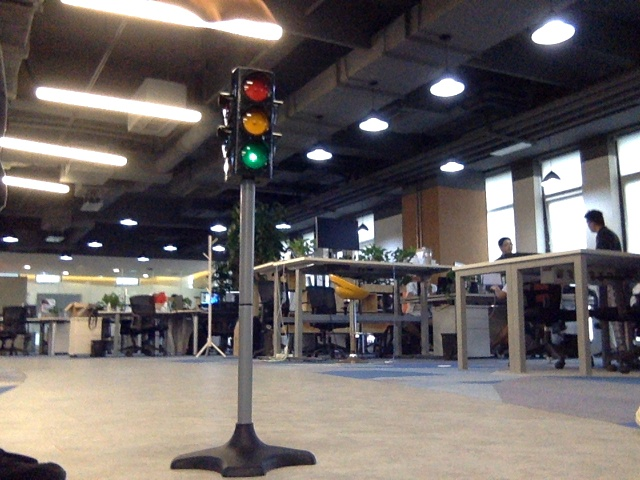green: (234, 78, 268, 172)
